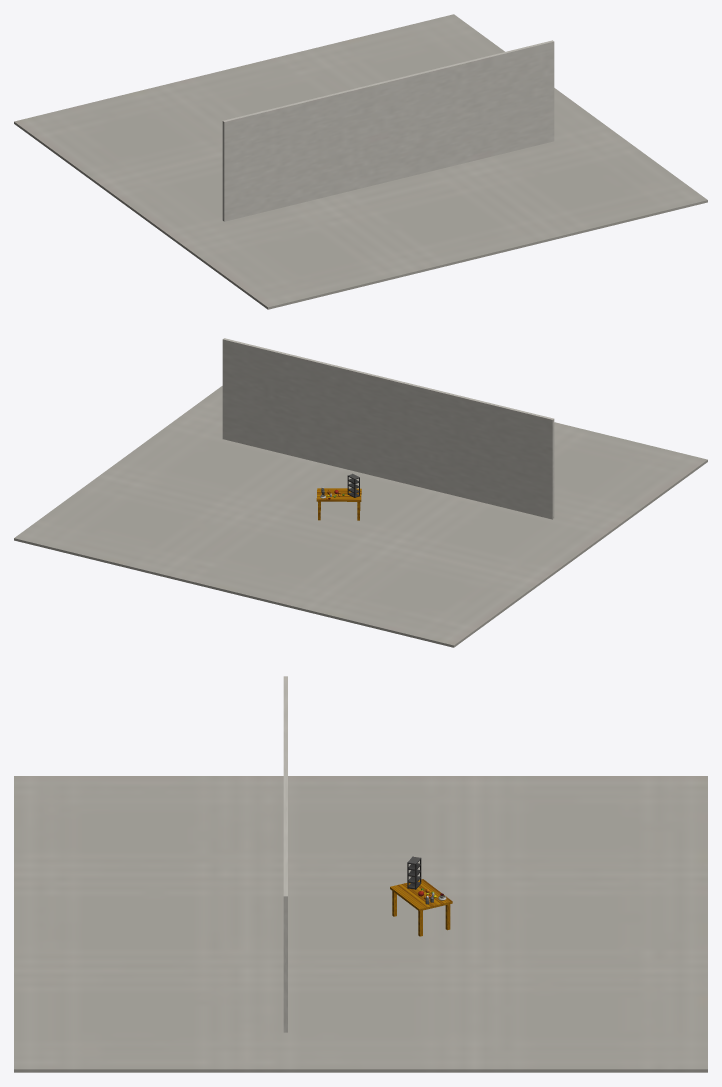
The model's file is ours.glb.
The picture shows the model from 3 angles, top to bottom: view 1: azimuth 30°, elevation 25°; view 2: azimuth 150°, elevation 25°; view 3: azimuth 270°, elevation 25°; orthographic projection. The views are drawn at different scales.
Parts seen in each view (by area): view 1: floor_0, wall_0; view 2: floor_0, wall_0, table_0; view 3: floor_0, wall_0, table_0.
Boxes of the visible parts, x1,y1,x2,y2 form: floor_0: (14,14,707,309); wall_0: (222,40,554,221); floor_0: (14,386,707,647); wall_0: (222,338,554,519); table_0: (316,488,361,520); floor_0: (14,776,707,1072); wall_0: (283,676,287,1032); table_0: (390,879,452,936).
Size of the model in its own units: 12 by 2.66 by 12.
20 materials, 20 textured.
